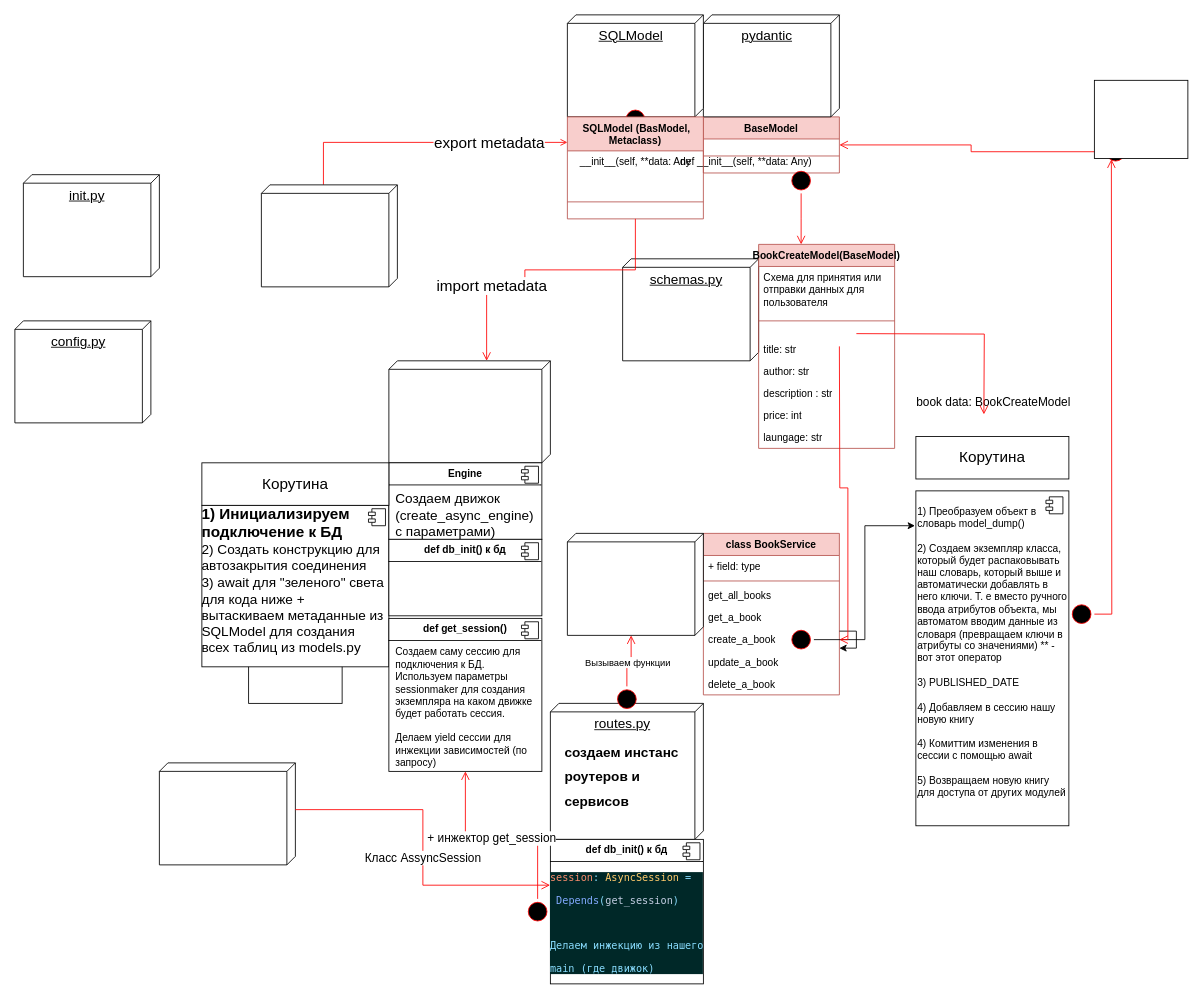
Image size: 1203x999. Some labels were removed from this diagram. The centre of each missing label's shape, as x and y in pixels:
"AssyncSession" belongs at (x=227, y=813).
"main.py (движок)" belongs at (x=469, y=411).
"models.py" belongs at (x=329, y=235).
"service.py" belongs at (x=635, y=584).
"Добавляем в __init__ параметры из словаря" belongs at (x=1141, y=119).
"Нужен для ORM запросов к БД" belongs at (x=295, y=681).
